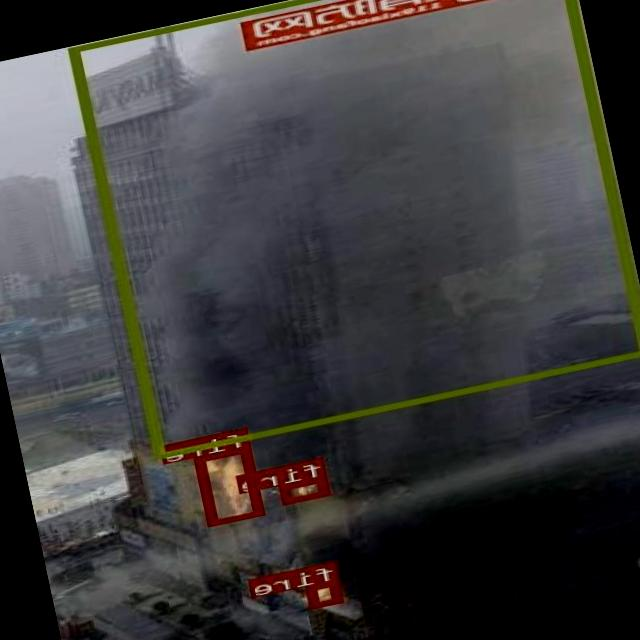fire: (196, 444, 266, 524), (281, 475, 331, 502), (306, 578, 344, 607)
smoke: (71, 0, 640, 458)
